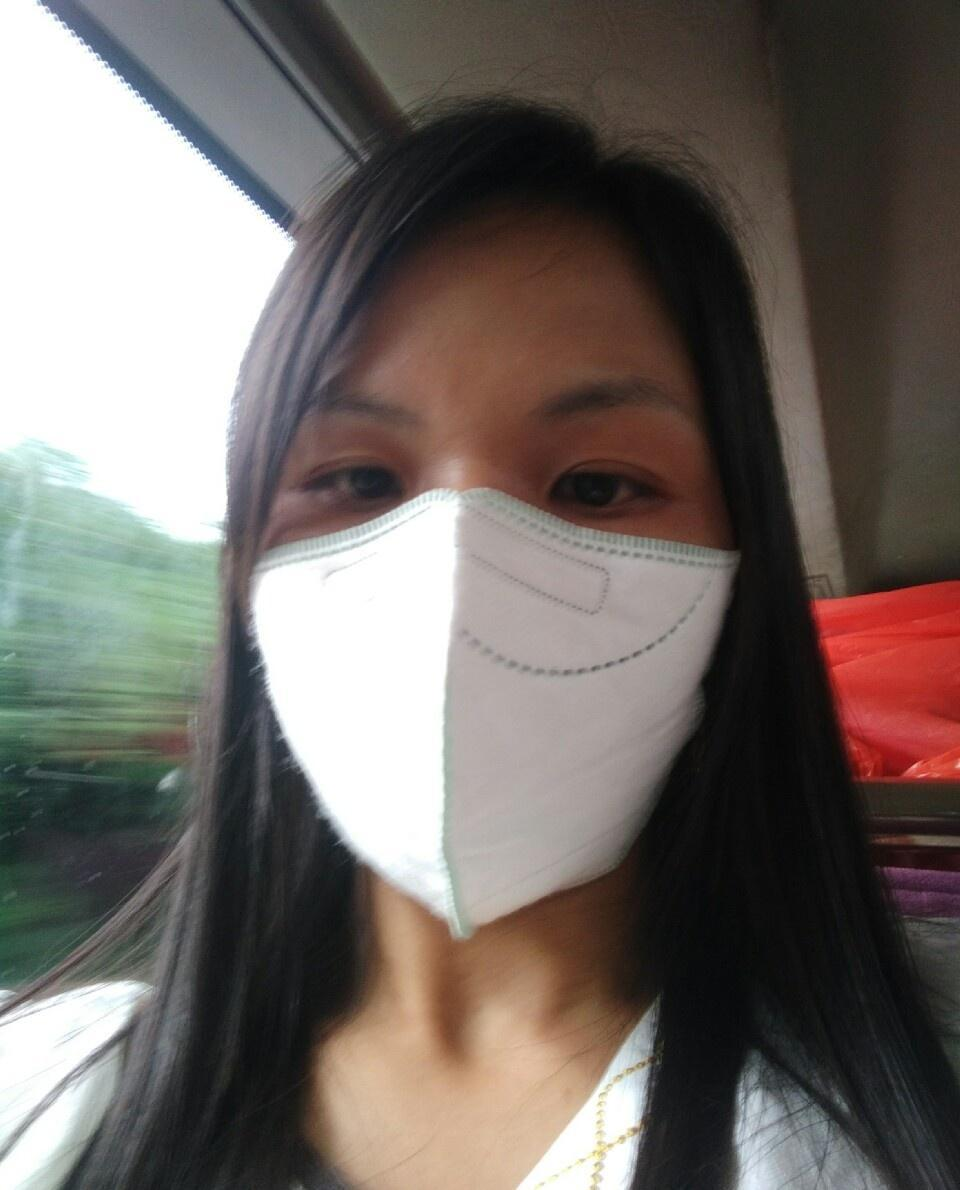OK: (195, 346, 762, 913)
